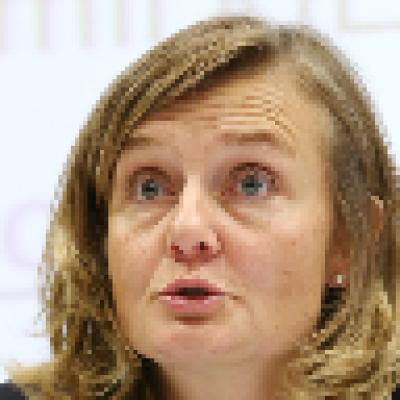surprise: (113, 66, 329, 355)
